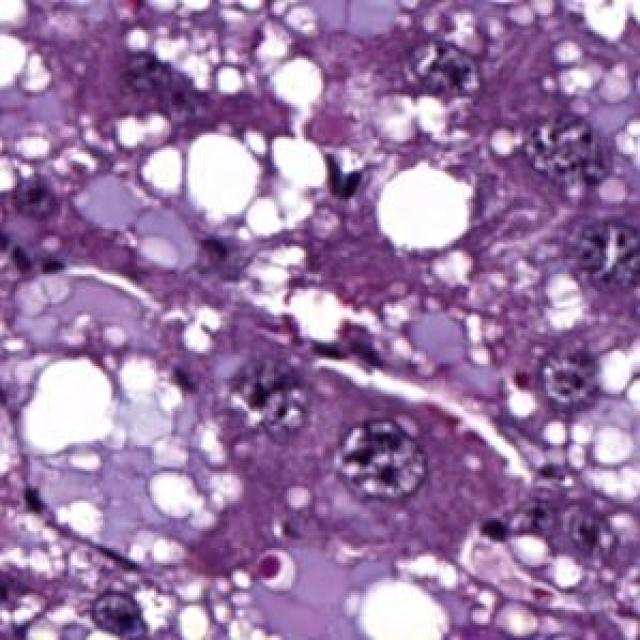ballooning: (20, 344, 248, 576)
